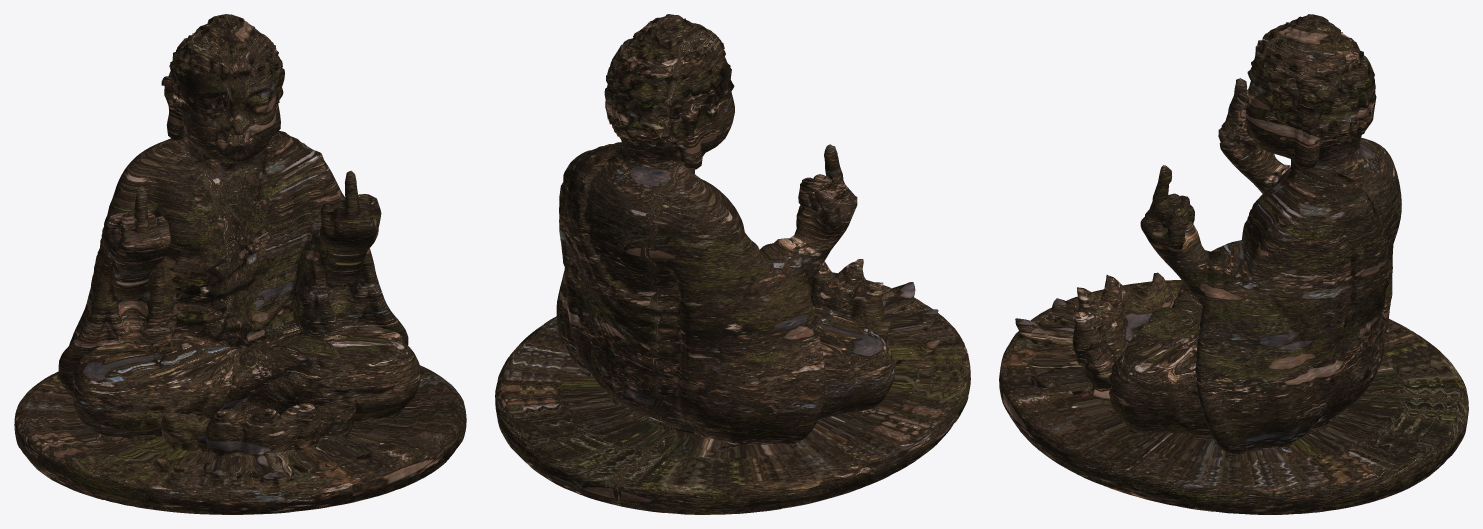
File: friedhof-statue.glb
The picture shows the model from 3 angles, left to right: view 1: azimuth 30°, elevation 25°; view 2: azimuth 150°, elevation 25°; view 3: azimuth 270°, elevation 25°; orthographic projection. The views are drawn at different scales.
Visible parts, largest first — view 1: tripo_node_bac28ecb-0714-462d-9279-8b5f29784513; view 2: tripo_node_bac28ecb-0714-462d-9279-8b5f29784513; view 3: tripo_node_bac28ecb-0714-462d-9279-8b5f29784513.
Boxes of the visible parts, x1=… form: tripo_node_bac28ecb-0714-462d-9279-8b5f29784513: x1=14, y1=14, x2=466, y2=514; tripo_node_bac28ecb-0714-462d-9279-8b5f29784513: x1=495, y1=14, x2=970, y2=514; tripo_node_bac28ecb-0714-462d-9279-8b5f29784513: x1=999, y1=14, x2=1468, y2=514.
Bounding box in the file's own units: 1 × 0.9959 × 0.9975.
Materials: 1 (1 with a texture image).
